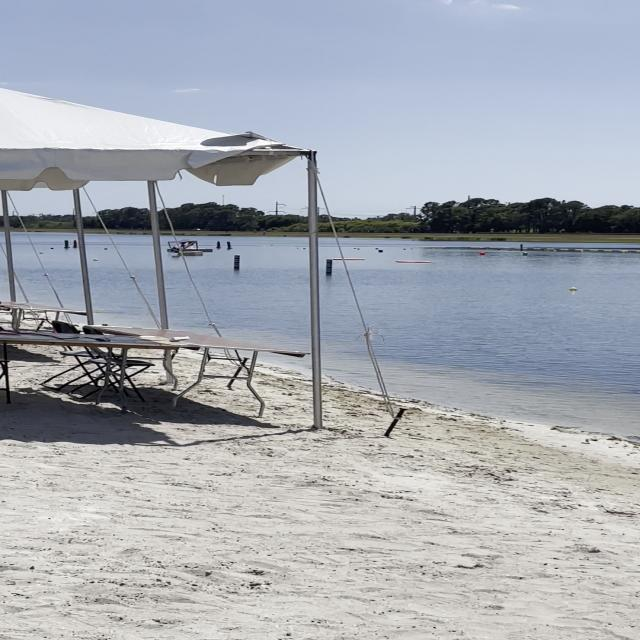buoy: (520, 251, 530, 256), (568, 288, 579, 292), (478, 252, 486, 256), (92, 258, 100, 262), (378, 248, 384, 252), (38, 252, 46, 254)
